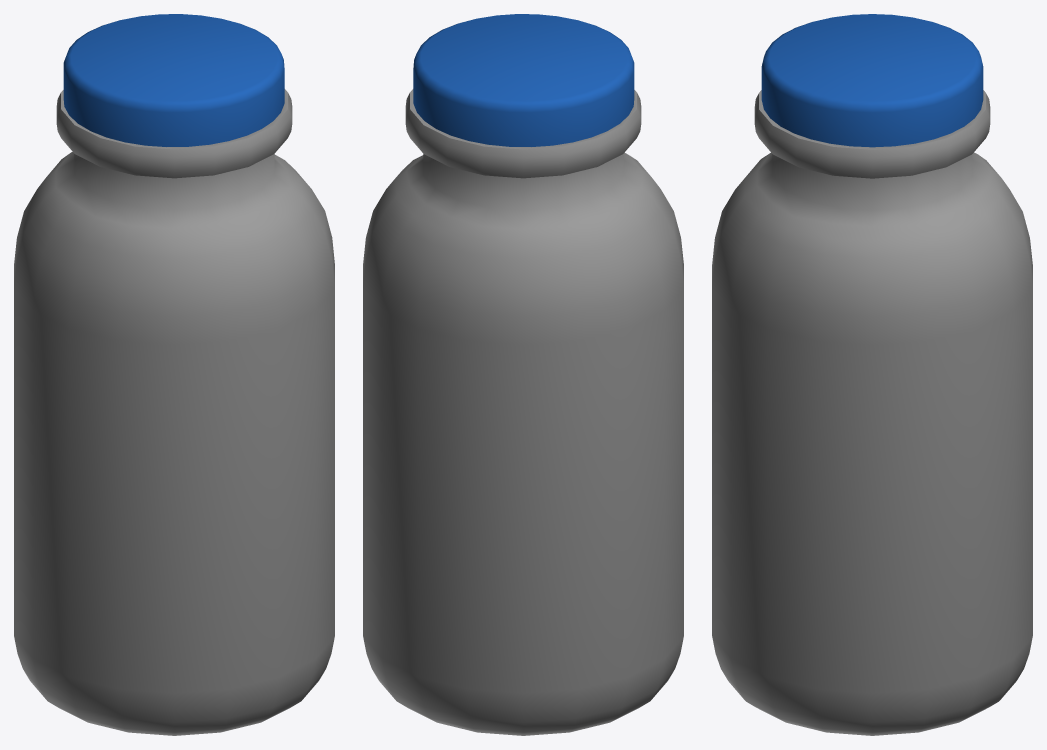
3 views of the same model, side by side, from view 1: azimuth 30°, elevation 25°; view 2: azimuth 150°, elevation 25°; view 3: azimuth 270°, elevation 25° (orthographic).
Parts seen in each view (by area): view 1: SM_空瓶, SM_空瓶盖; view 2: SM_空瓶, SM_空瓶盖; view 3: SM_空瓶, SM_空瓶盖.
Part boxes in pixels (x1,y1,x2,y2): SM_空瓶: (14, 89, 334, 735); SM_空瓶盖: (63, 14, 284, 146); SM_空瓶: (363, 89, 683, 735); SM_空瓶盖: (413, 14, 634, 146); SM_空瓶: (712, 90, 1032, 735); SM_空瓶盖: (761, 14, 983, 147).
Bounding box in the file's own units: 0.0345 × 0.0726 × 0.034.
